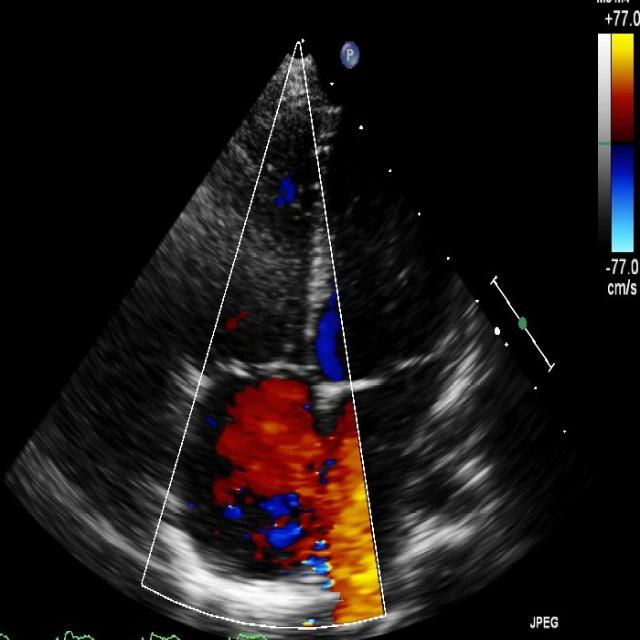ASDType2: (218, 382, 386, 624)
